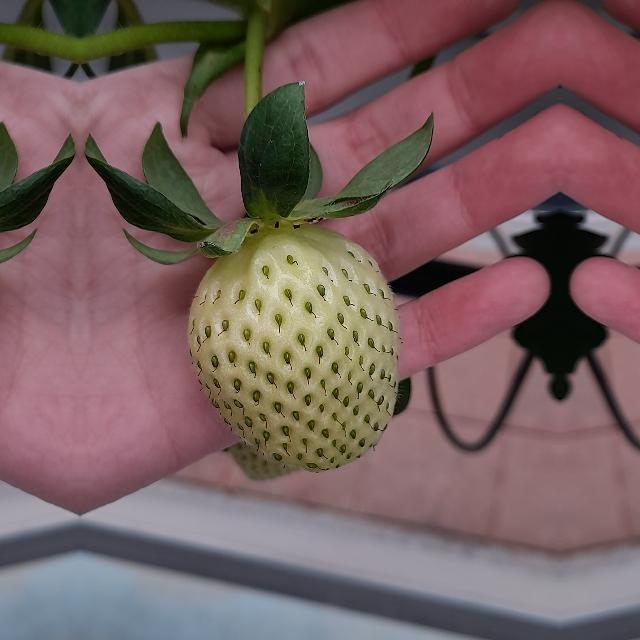Health_25: (188, 220, 400, 472)
